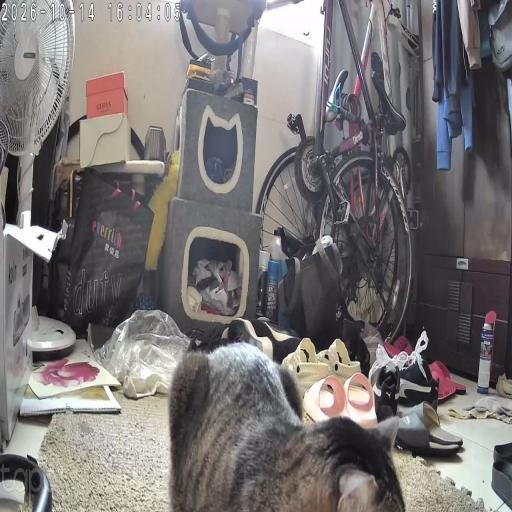cat: (174, 346, 393, 512)
